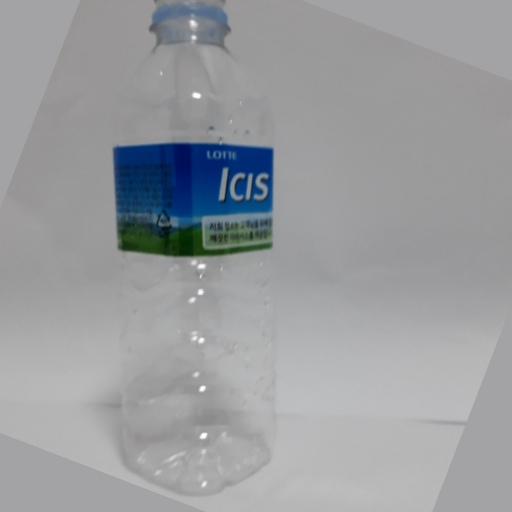Plastic_0: (107, 1, 281, 493)
